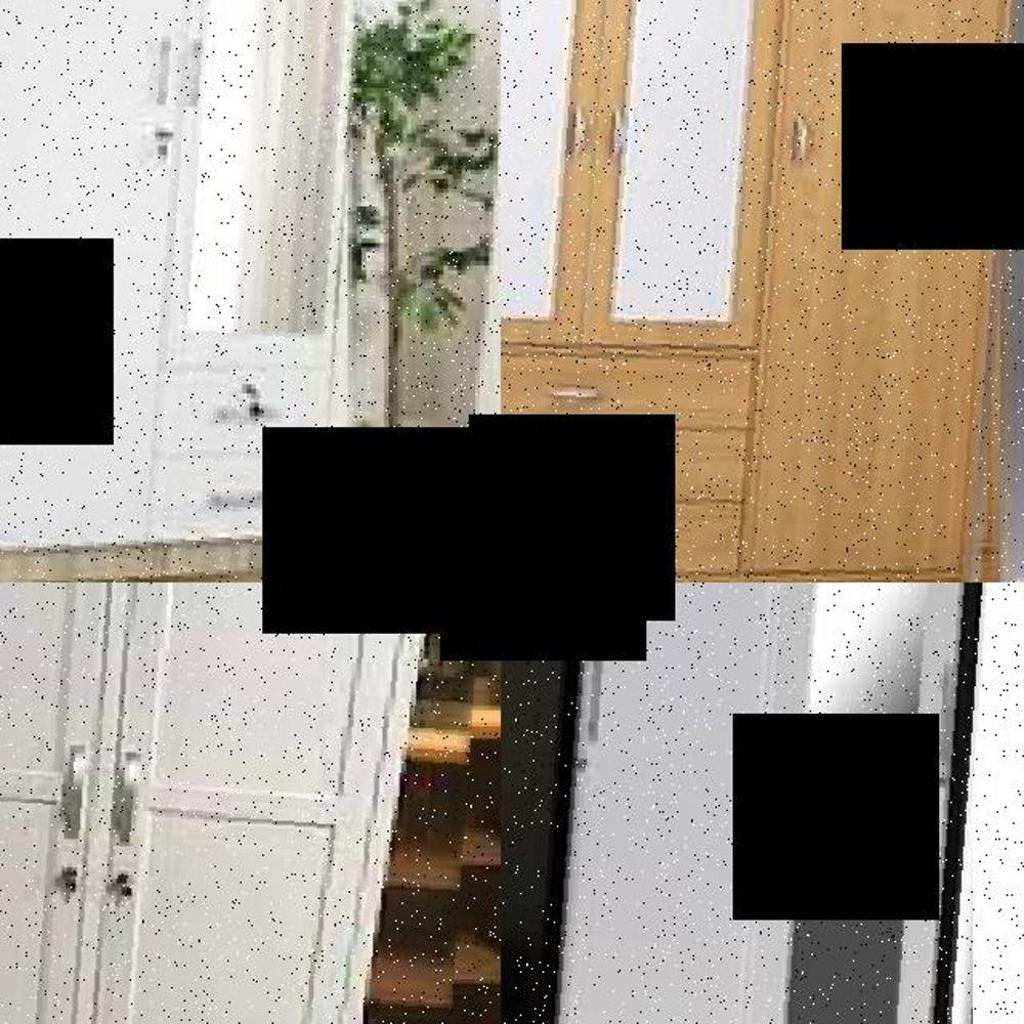cabinet: (501, 0, 1024, 582), (501, 582, 1006, 1024), (0, 0, 368, 582), (0, 582, 482, 1024)
